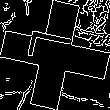L_E: (27, 35, 83, 75)
